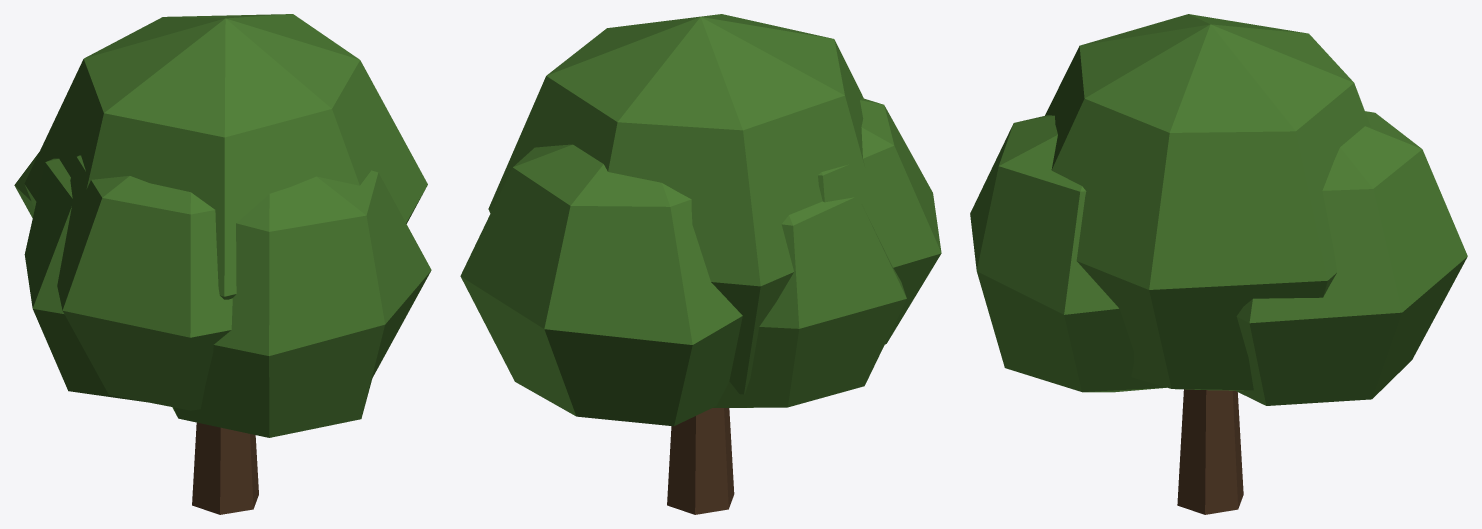
Rendered from arbol_otono.glb.
The picture shows the model from 3 angles, left to right: view 1: azimuth 30°, elevation 25°; view 2: azimuth 150°, elevation 25°; view 3: azimuth 270°, elevation 25°; orthographic projection.
Visible parts, largest first — view 1: Decid_1; view 2: Decid_1; view 3: Decid_1.
Part boxes in pixels (x1,y1,x2,y2): Decid_1: (14, 14, 431, 514); Decid_1: (460, 14, 941, 514); Decid_1: (970, 14, 1467, 514).
Bounding box in the file's own units: 4.22 × 5.2 × 4.93.
